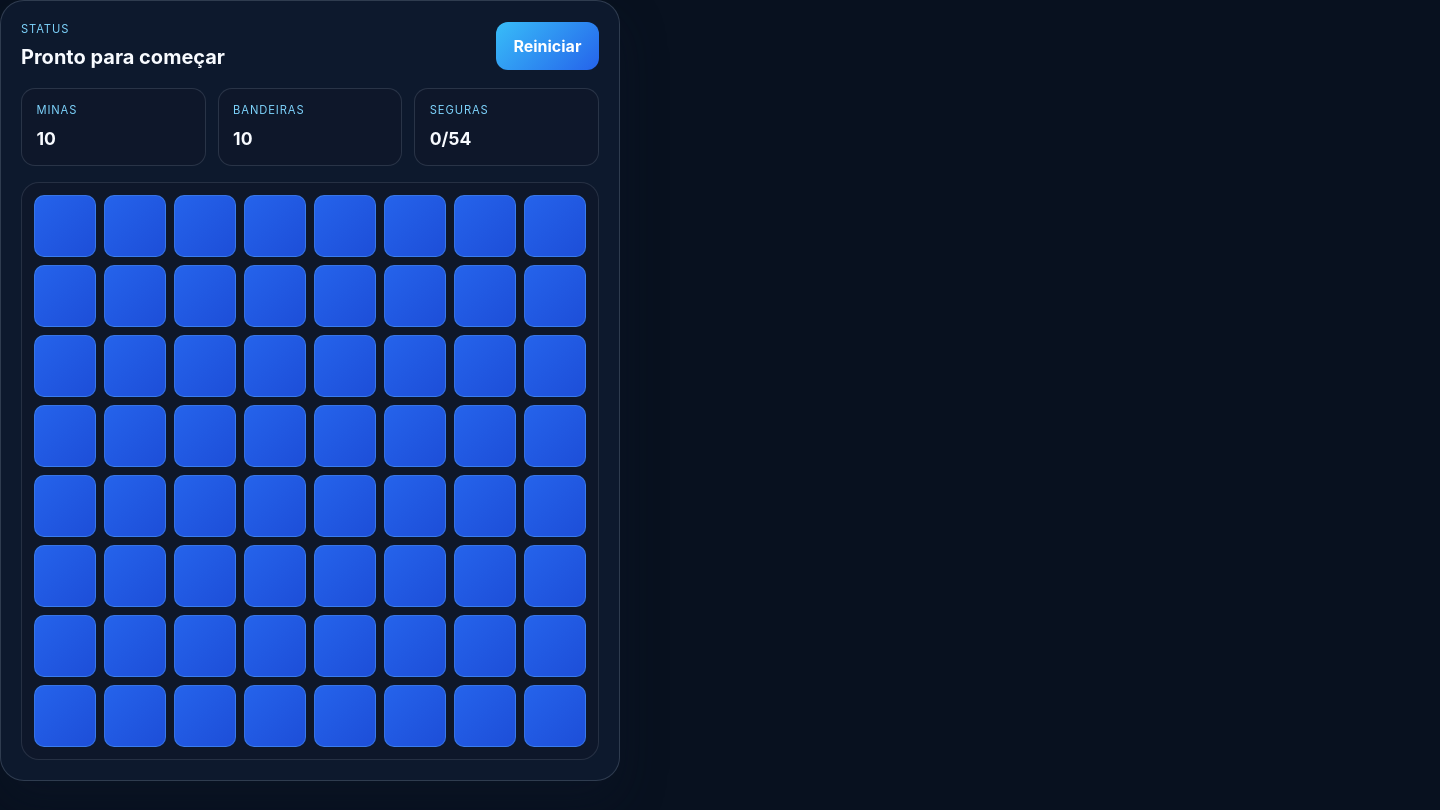
Test: Minefield › perde ao clicar em uma mina e revela todas as minas
The image size is (1440, 810).
Click the button named "Campo 1-1".
click(65, 226)  # box [34,195,96,257]
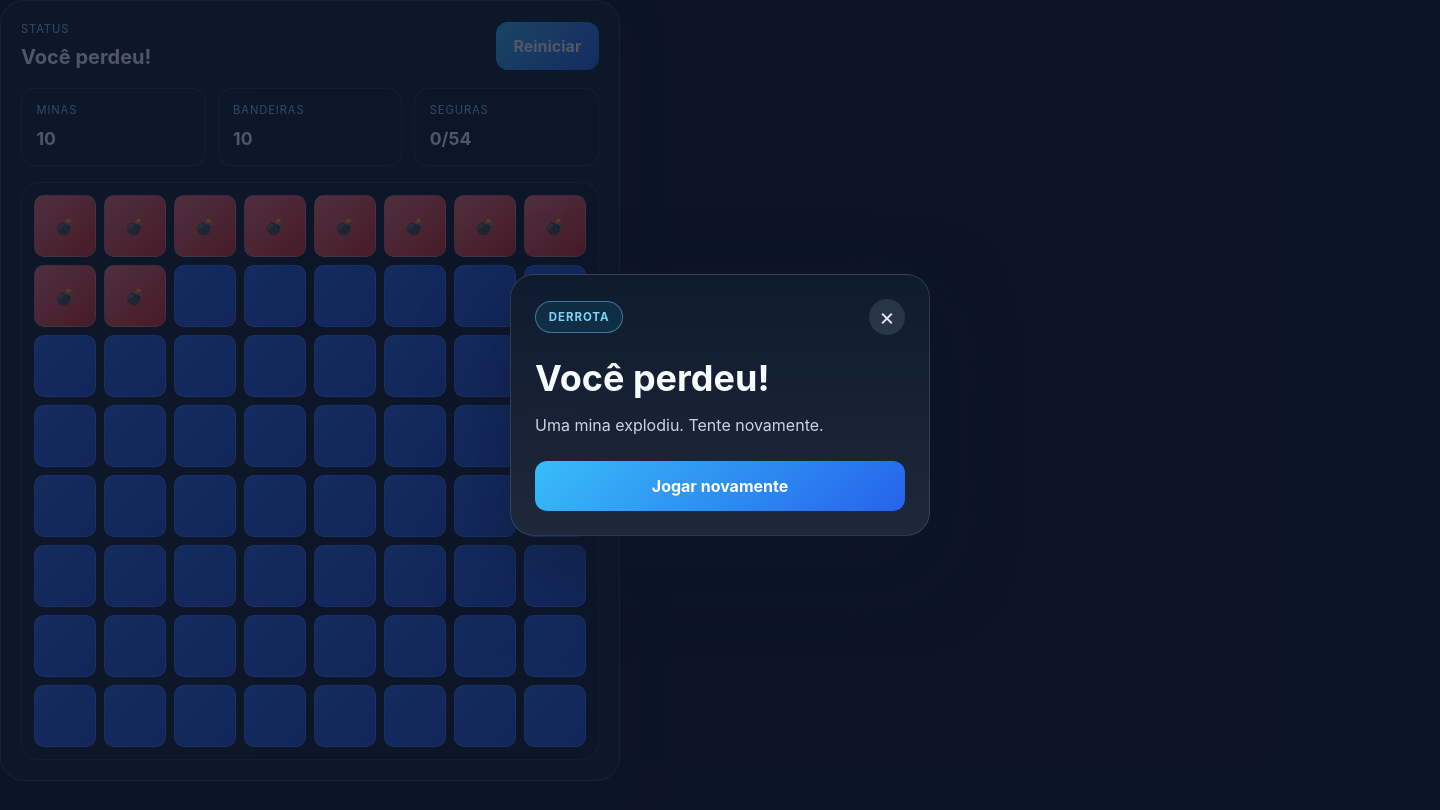
Expected: the text "Você perdeu!" is shown, [21,42,151,72]
Expected: the button with class "mine" reads "💣", [34,195,96,257]
